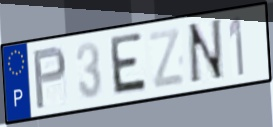1: (227, 14, 246, 80)
3: (75, 40, 104, 102)
E: (110, 31, 149, 98)
N: (186, 16, 227, 88)
P: (32, 44, 69, 112)
Z: (146, 25, 186, 91)
